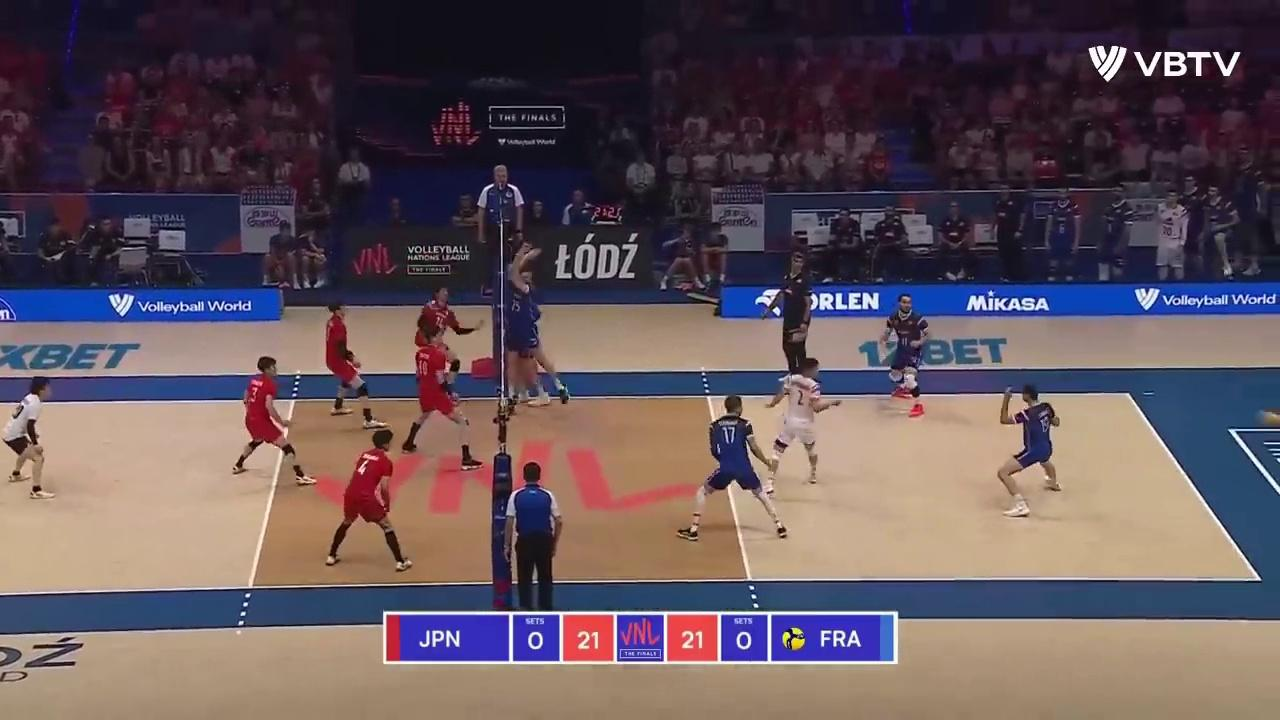ball: (1258, 407, 1280, 429)
